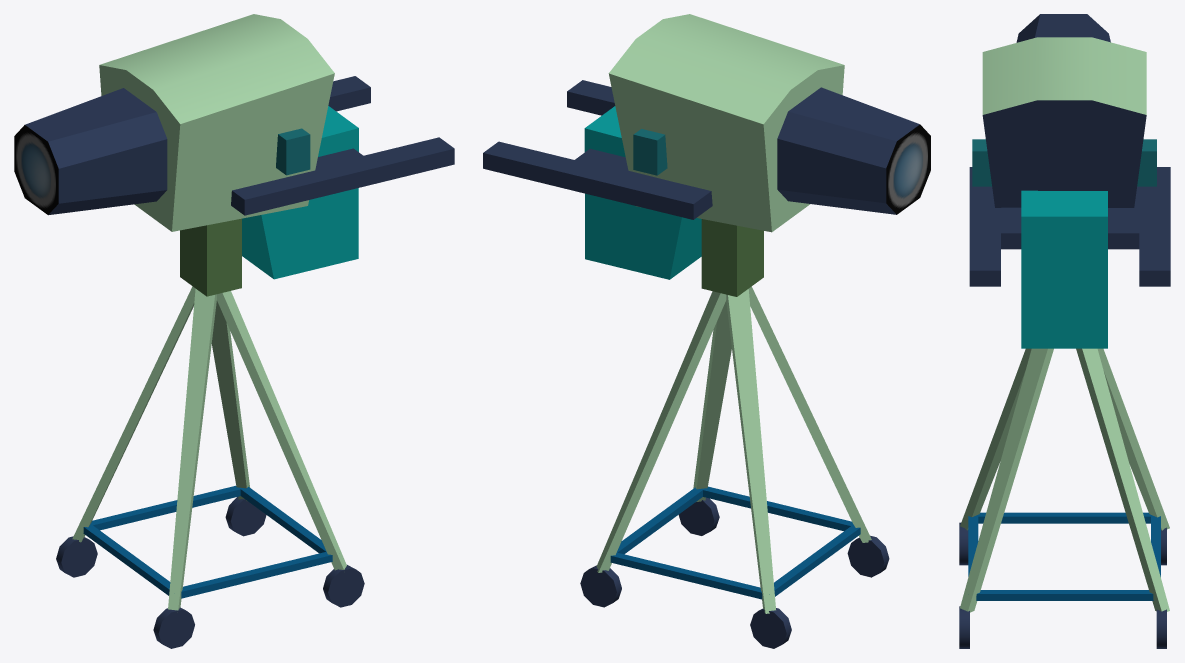
Rendered from Camera_Fixed.FBX.
The picture shows the model from 3 angles, left to right: view 1: azimuth 30°, elevation 25°; view 2: azimuth 150°, elevation 25°; view 3: azimuth 270°, elevation 25°; orthographic projection.
Parts seen in each view (by area): view 1: Camera_Fixed; view 2: Camera_Fixed; view 3: Camera_Fixed.
Boxes of the visible parts, x1,y1,x2,y2 form: Camera_Fixed: [14, 14, 454, 648]; Camera_Fixed: [483, 14, 930, 648]; Camera_Fixed: [959, 14, 1170, 648].
Bounding box in the file's own units: 13.14 × 18.21 × 6.4.
